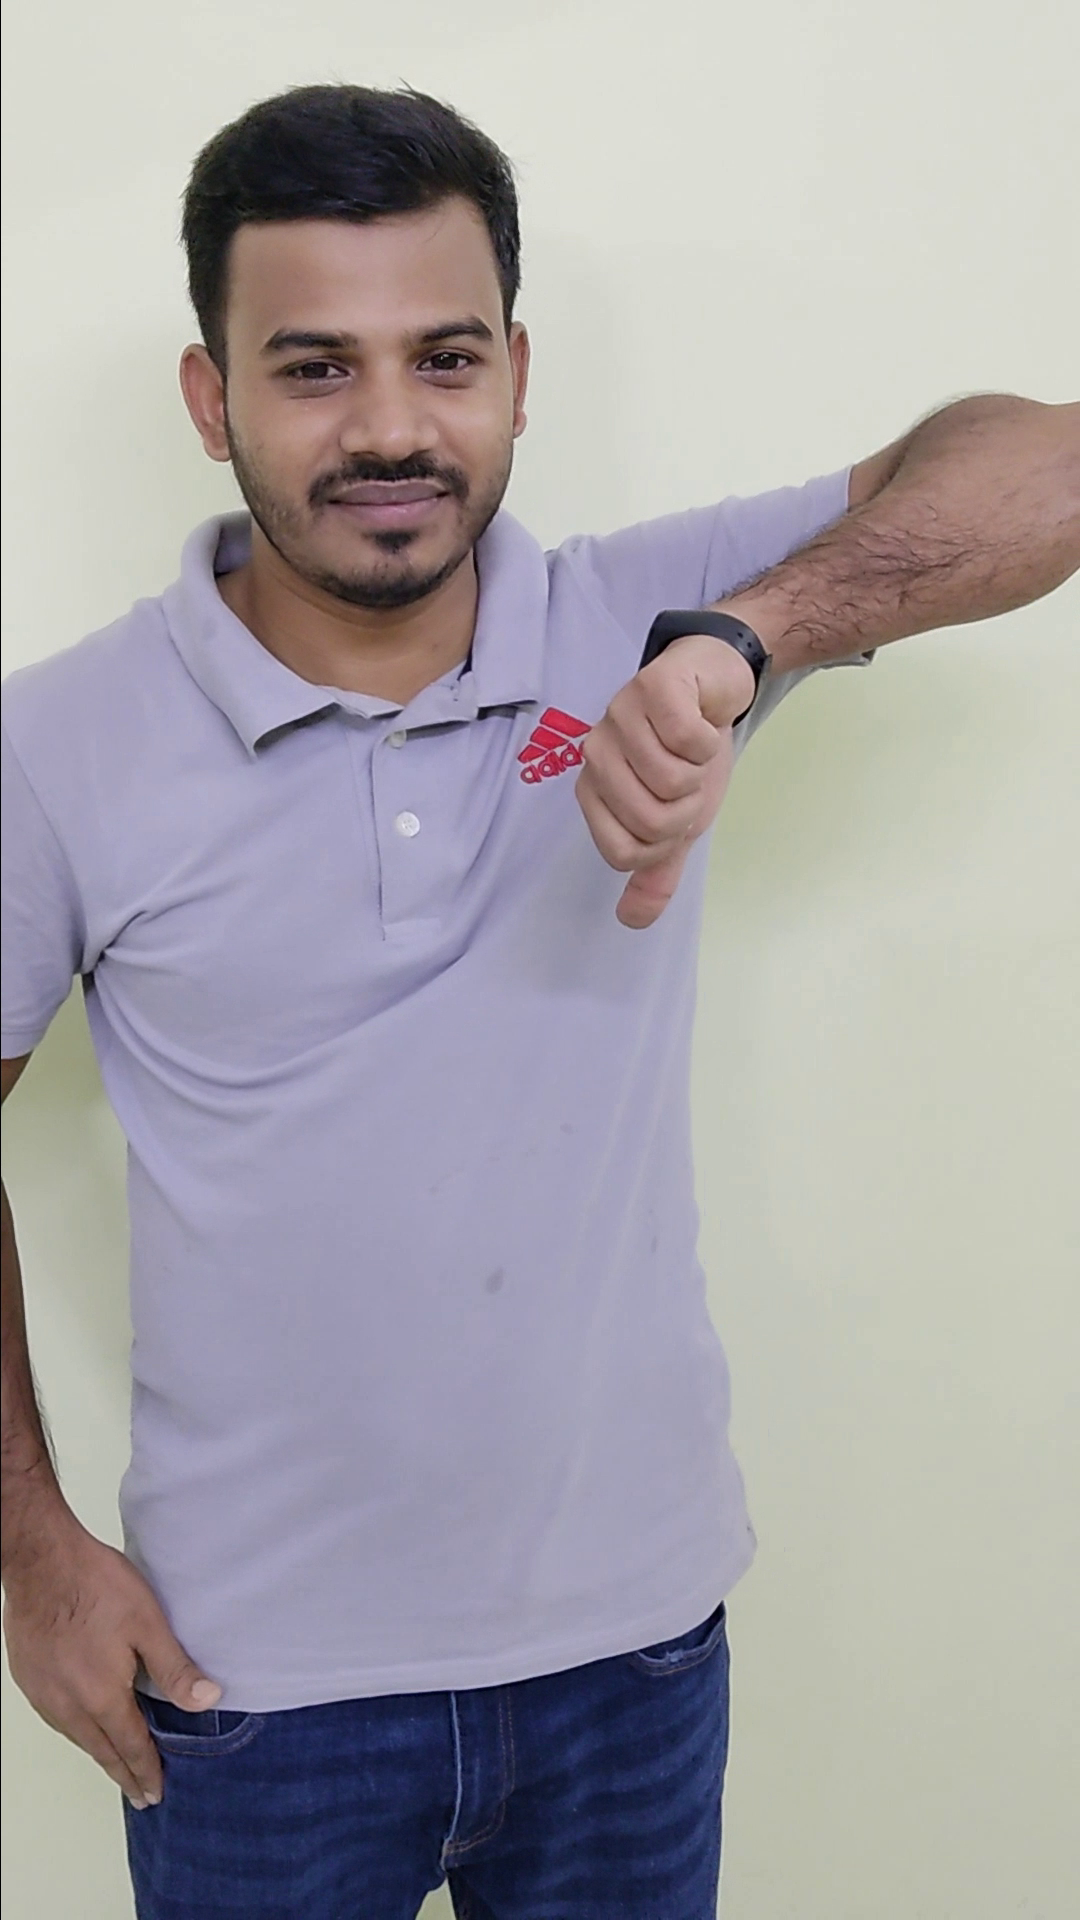Dislike: (553, 571, 781, 945)
None: (0, 1502, 245, 1818)
